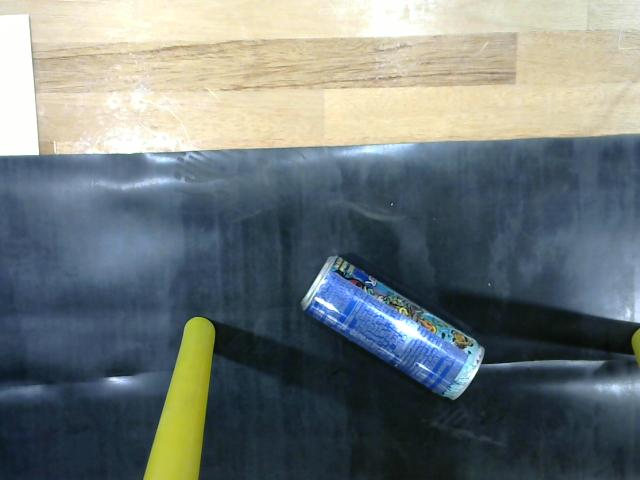can: (289, 244, 499, 414)
